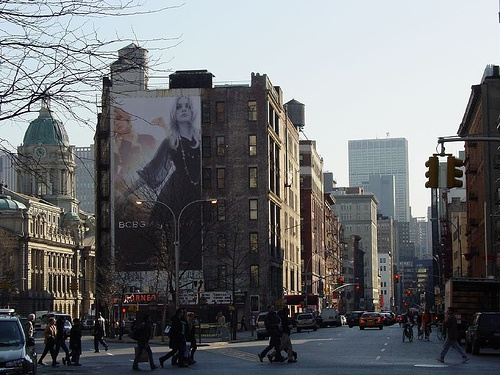non-vehicle: (401, 325, 413, 341), (422, 323, 432, 342), (436, 323, 444, 340)
